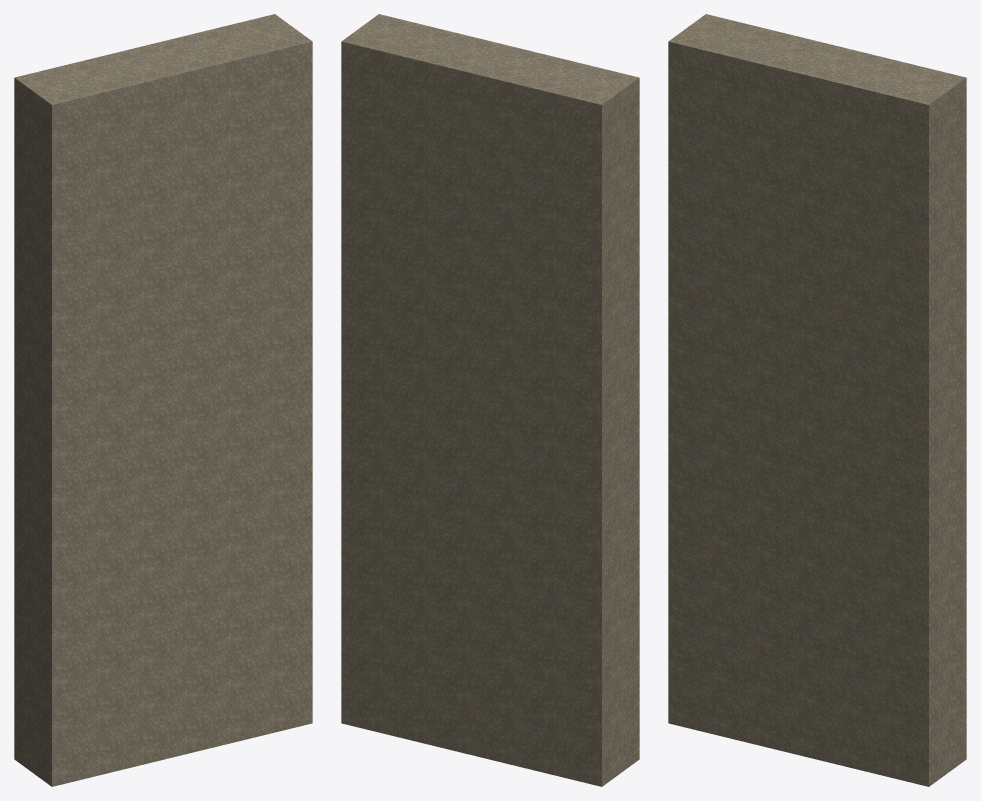
3 renders of one model, left to right at view 1: azimuth 30°, elevation 25°; view 2: azimuth 150°, elevation 25°; view 3: azimuth 330°, elevation 25°, orthographic.
Visible parts, largest first — view 1: S07_砂卵砾石层_30m; view 2: S07_砂卵砾石层_30m; view 3: S07_砂卵砾石层_30m.
Boxes of the visible parts, left/top/right/bottom form: S07_砂卵砾石层_30m: left=14, top=14, right=312, bottom=786; S07_砂卵砾石层_30m: left=341, top=14, right=639, bottom=786; S07_砂卵砾石层_30m: left=668, top=14, right=966, bottom=786.
Size of the model in its own units: 12 by 30 by 3.
Materials: 2 (2 with a texture image).
